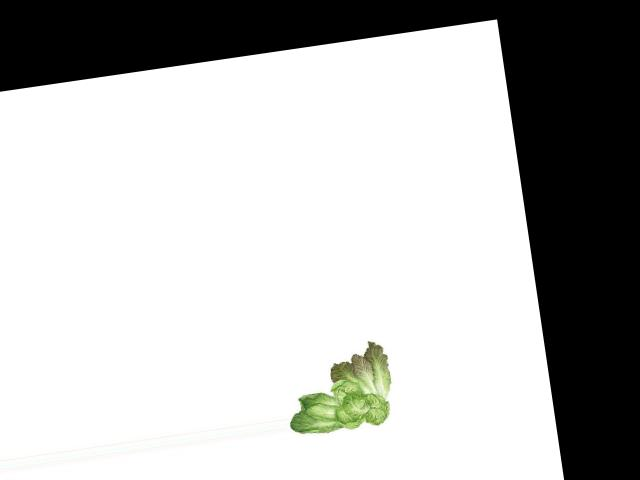lettuce: (278, 333, 399, 443)
